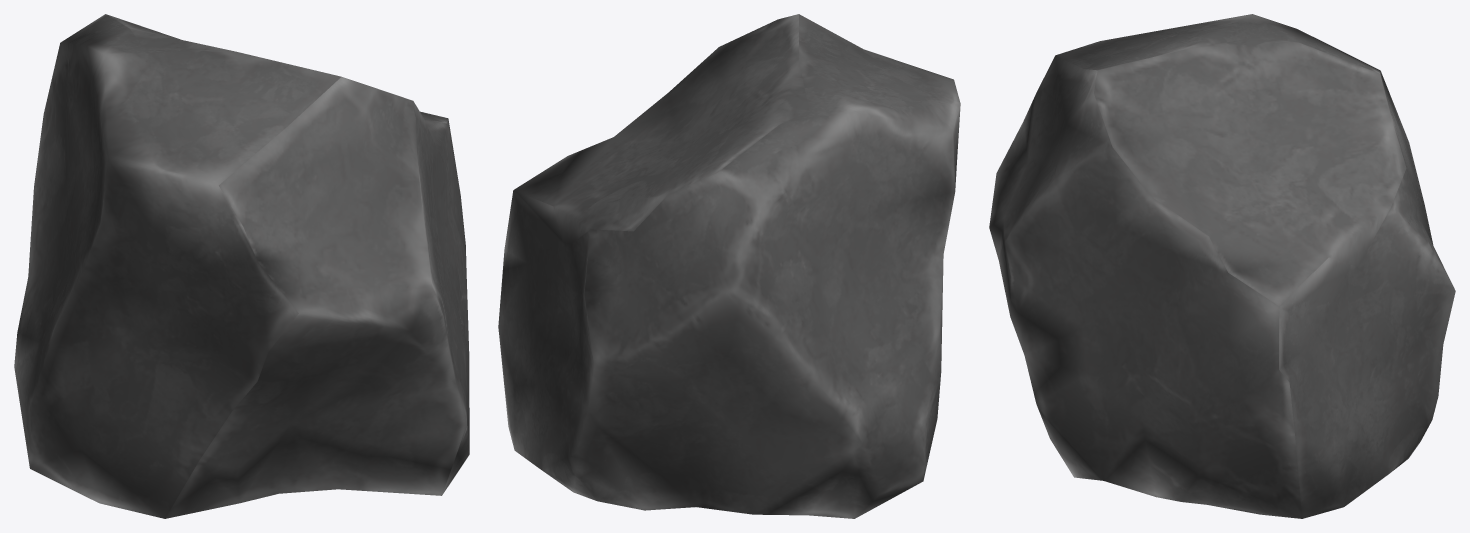
Rendered from ROK0110012.fbx.
3 views of the same model, side by side, from view 1: azimuth 30°, elevation 25°; view 2: azimuth 150°, elevation 25°; view 3: azimuth 270°, elevation 25° (orthographic). The views are drawn at different scales.
Parts seen in each view (by area): view 1: smROK0110012; view 2: smROK0110012; view 3: smROK0110012.
Part boxes in pixels (x1,y1,x2,y2): smROK0110012: (14,14,469,518); smROK0110012: (498,14,960,518); smROK0110012: (989,14,1455,518).
Size of the model in its own units: 115 by 107 by 120.
Materials: 1 (1 with a texture image).
